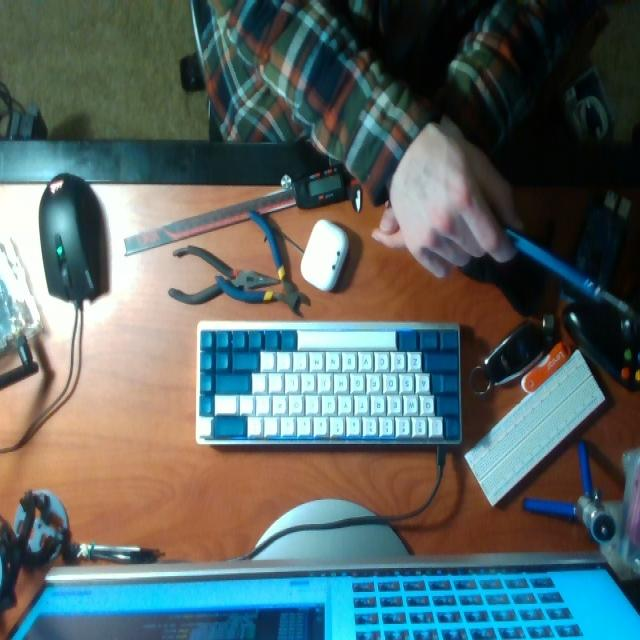keyboard: (196, 323, 462, 443)
